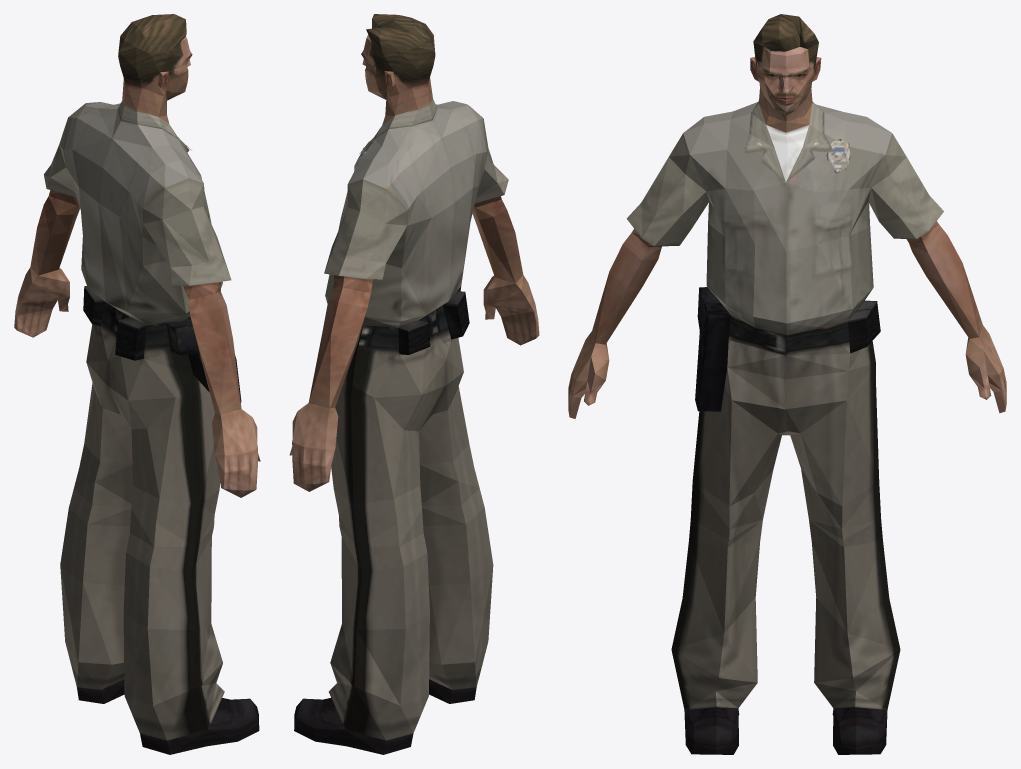
Rendered from lvpd1.obj.
3 renders of one model, left to right at view 1: azimuth 30°, elevation 25°; view 2: azimuth 150°, elevation 25°; view 3: azimuth 270°, elevation 25°, orthographic.
Visible parts, largest first — view 1: _Pelvis; view 2: _Pelvis; view 3: _Pelvis.
Boxes of the visible parts, left/top/right/bottom form: _Pelvis: left=14, top=14, right=260, bottom=754; _Pelvis: left=289, top=14, right=539, bottom=754; _Pelvis: left=568, top=14, right=1006, bottom=754.
Size of the model in its own units: 0.3476 by 1.84 by 1.03.
Materials: 1 (1 with a texture image).
